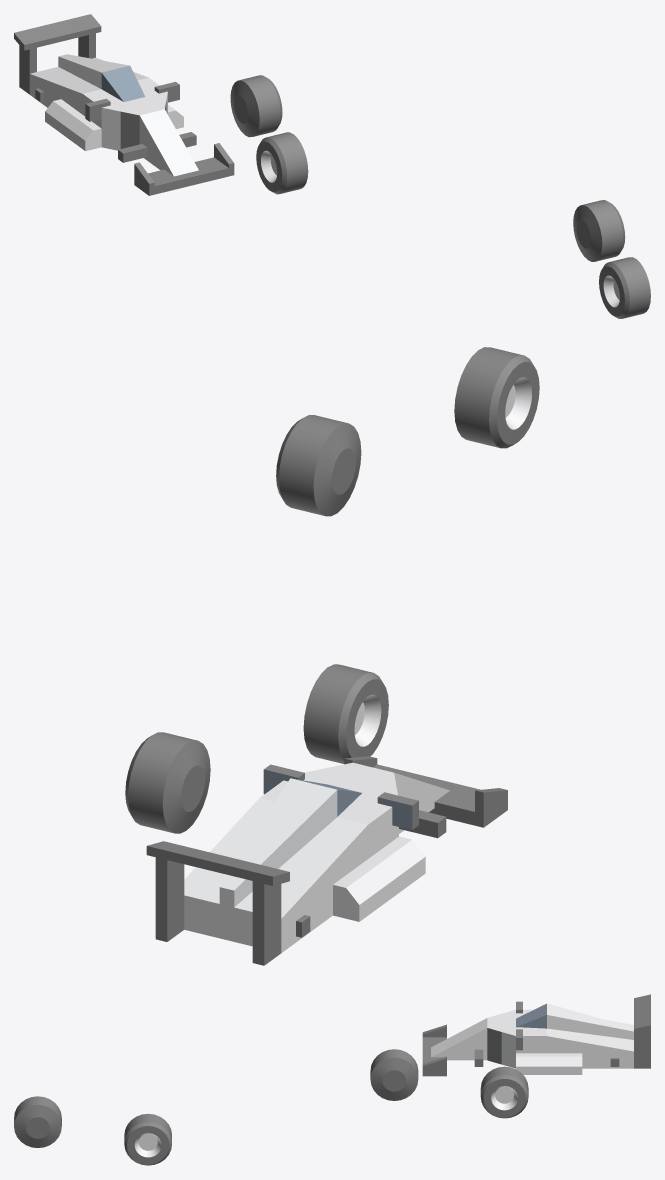
The model's file is raceCarWhite.glb.
3 views of the same model, one above another, from view 1: azimuth 30°, elevation 25°; view 2: azimuth 150°, elevation 25°; view 3: azimuth 270°, elevation 25° (orthographic). The views are drawn at different scales.
Parts seen in each view (by area): view 1: body, wheelBackLeft, wheelFrontLeft, wheelBackRight, wheelFrontRight; view 2: body, wheelFrontLeft, wheelBackLeft, wheelFrontRight, wheelBackRight; view 3: body, wheelBackRight, wheelBackLeft, wheelFrontRight, wheelFrontLeft.
Part boxes in pixels (x1=…): body: x1=14, y1=14, x2=234, y2=195; wheelBackLeft: x1=230, y1=75, x2=282, y2=137; wheelFrontLeft: x1=573, y1=200, x2=625, y2=261; wheelBackRight: x1=256, y1=132, x2=308, y2=194; wheelFrontRight: x1=599, y1=257, x2=650, y2=318; body: x1=146, y1=756, x2=507, y2=965; wheelFrontLeft: x1=276, y1=415, x2=361, y2=516; wheelBackLeft: x1=125, y1=732, x2=210, y2=833; wheelFrontRight: x1=454, y1=347, x2=539, y2=448; wheelBackRight: x1=303, y1=664, x2=388, y2=763; body: x1=422, y1=994, x2=650, y2=1076; wheelBackRight: x1=370, y1=1049, x2=418, y2=1100; wheelBackLeft: x1=480, y1=1066, x2=528, y2=1118; wheelFrontRight: x1=14, y1=1096, x2=61, y2=1147; wheelFrontLeft: x1=124, y1=1113, x2=171, y2=1165.
Size of the model in its own units: 1.69 by 0.387 by 3.75.
